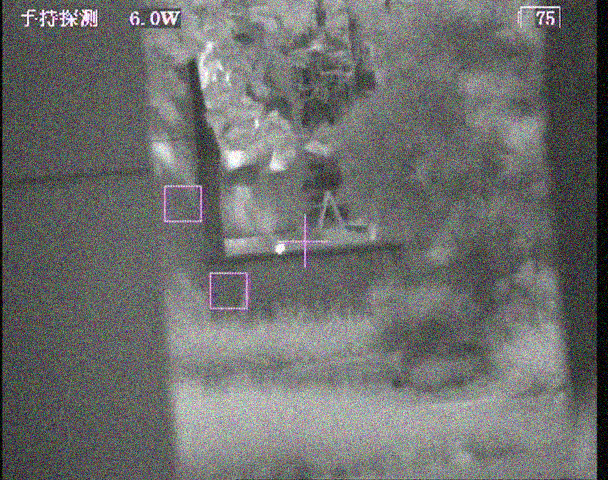my: (274, 242, 287, 255)
